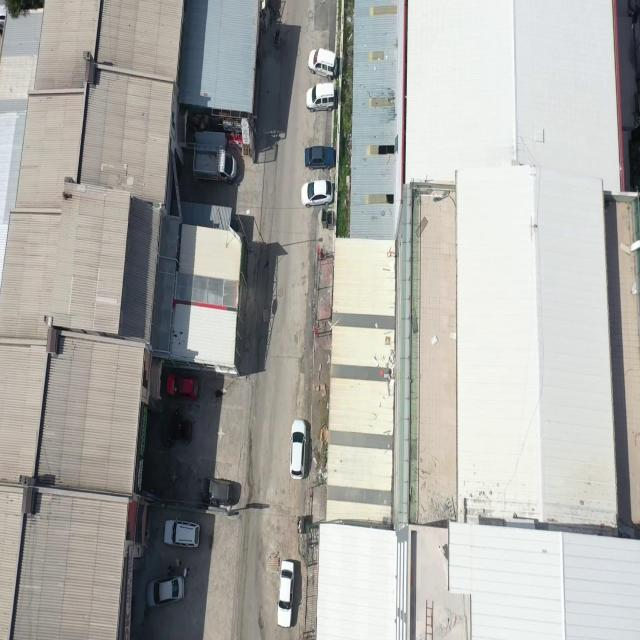p3rson: (167, 564, 175, 577), (182, 566, 190, 578), (174, 558, 181, 568)
